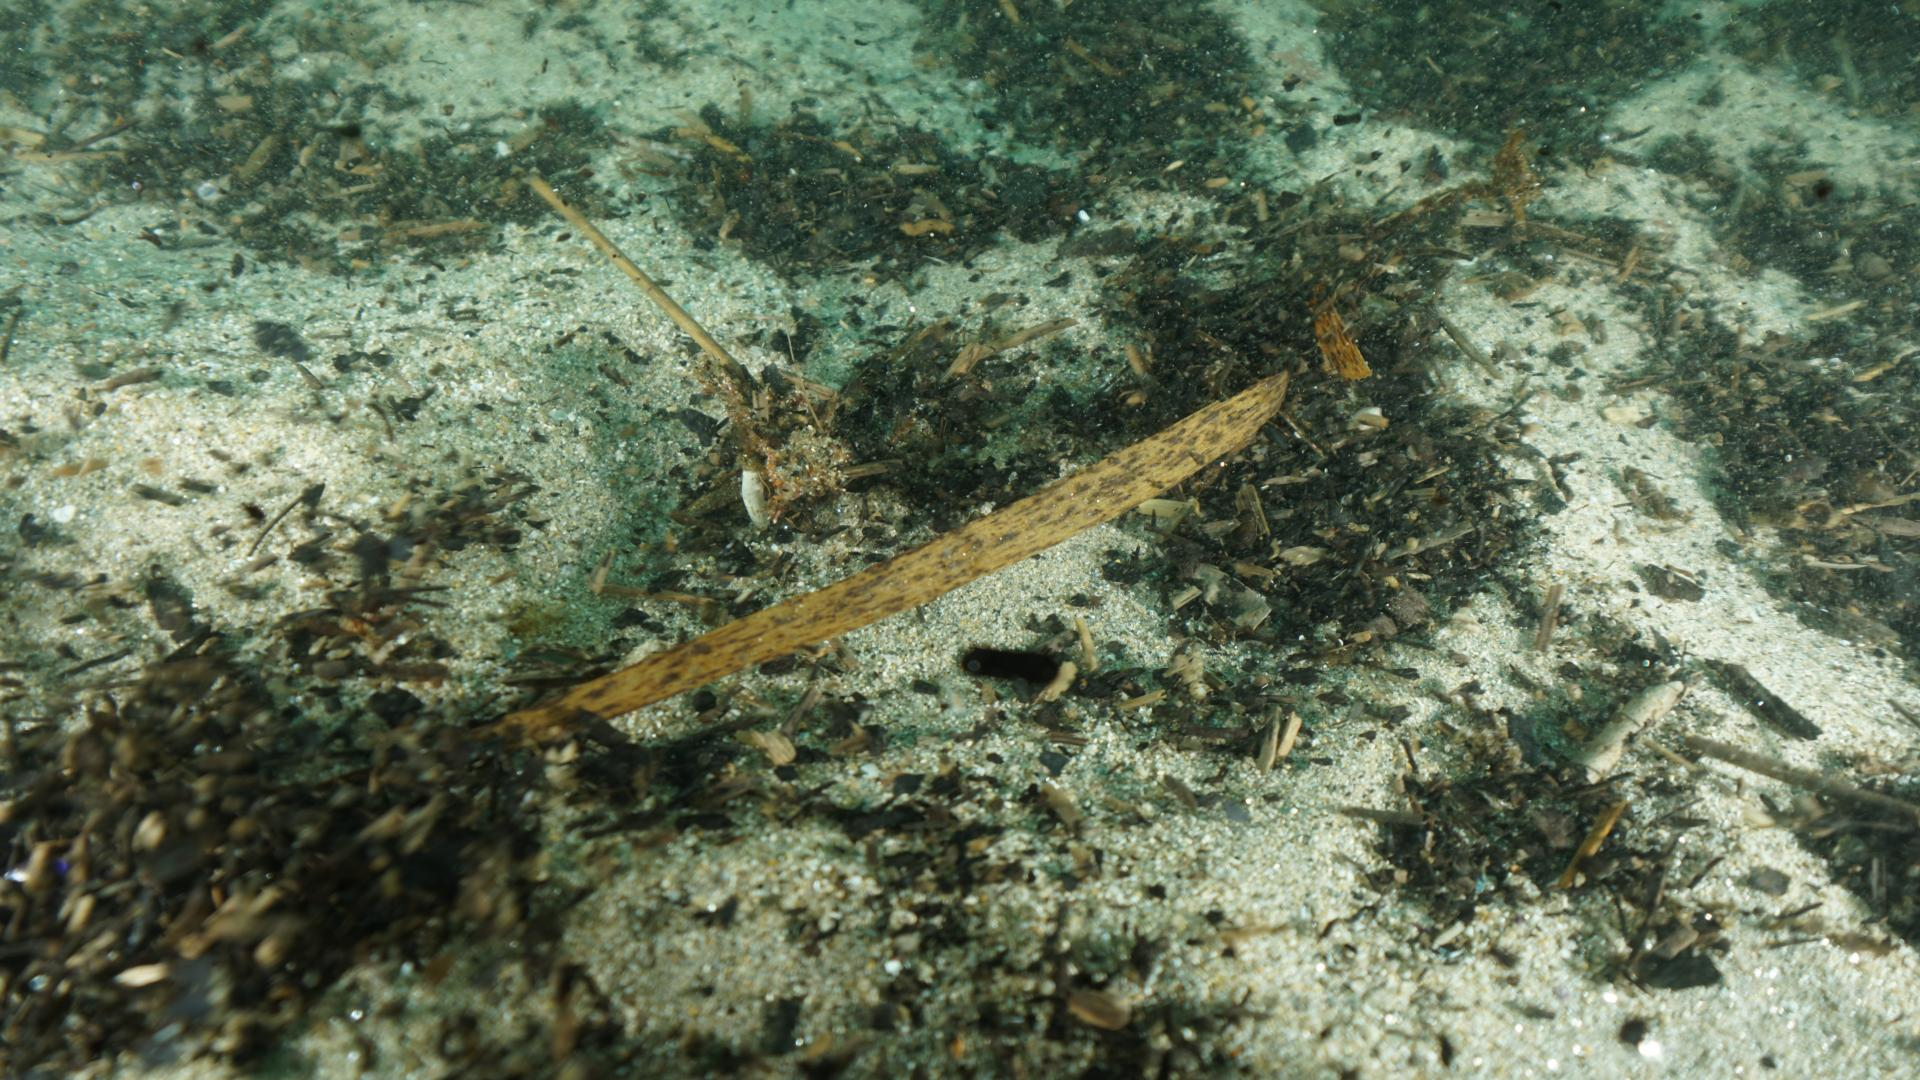wood: (568, 365, 1296, 709)
